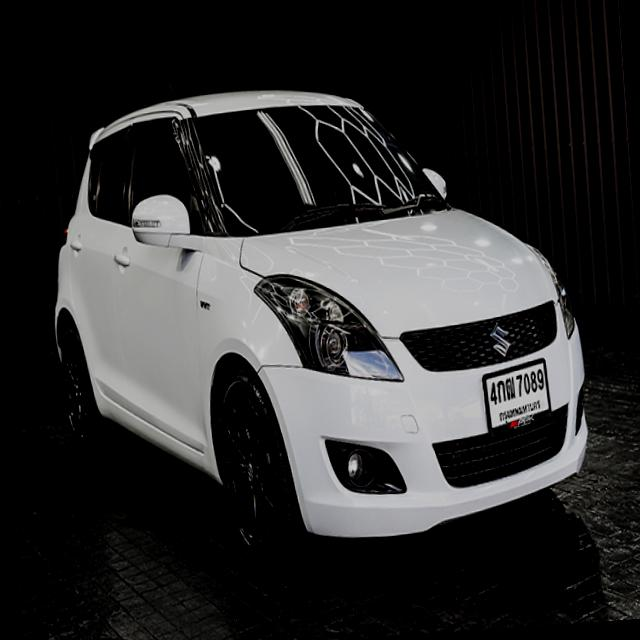license_plate: (479, 356, 554, 437)
